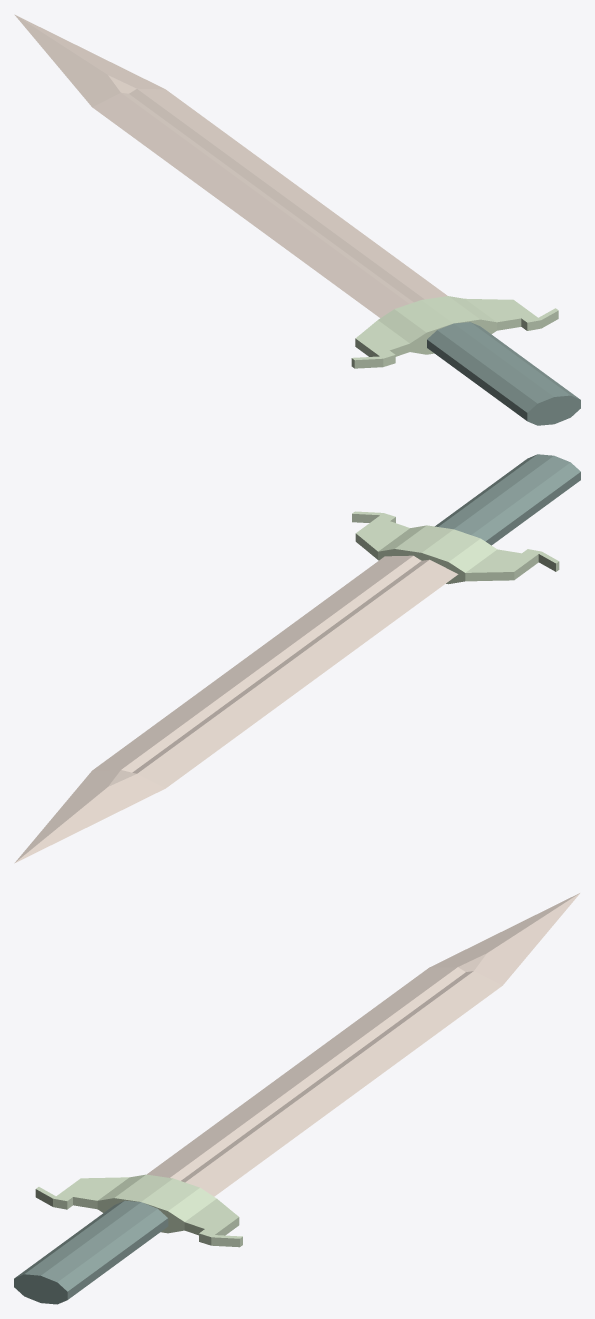
File: dullblade.fbx
3 renders of one model, top to bottom at view 1: azimuth 30°, elevation 25°; view 2: azimuth 150°, elevation 25°; view 3: azimuth 330°, elevation 25°, orthographic.
Visible parts, largest first — view 1: Cube, Cylinder.001, Cylinder; view 2: Cube, Cylinder, Cylinder.001; view 3: Cube, Cylinder.001, Cylinder.
Part boxes in pixels (bbox=[...]): Cube: bbox=[14, 14, 447, 317]; Cylinder.001: bbox=[427, 322, 580, 425]; Cylinder: bbox=[351, 296, 558, 368]; Cube: bbox=[14, 555, 458, 863]; Cylinder: bbox=[352, 511, 559, 584]; Cylinder.001: bbox=[435, 454, 580, 545]; Cube: bbox=[147, 893, 579, 1196]; Cylinder.001: bbox=[14, 1200, 168, 1304]; Cylinder: bbox=[35, 1174, 242, 1247].
Bounding box in the file's own units: 180 × 23.08 × 825.
